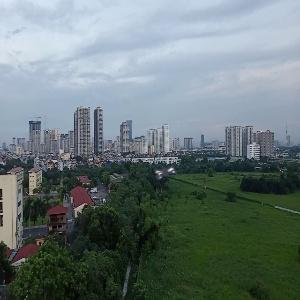drone: (136, 144, 199, 207)
